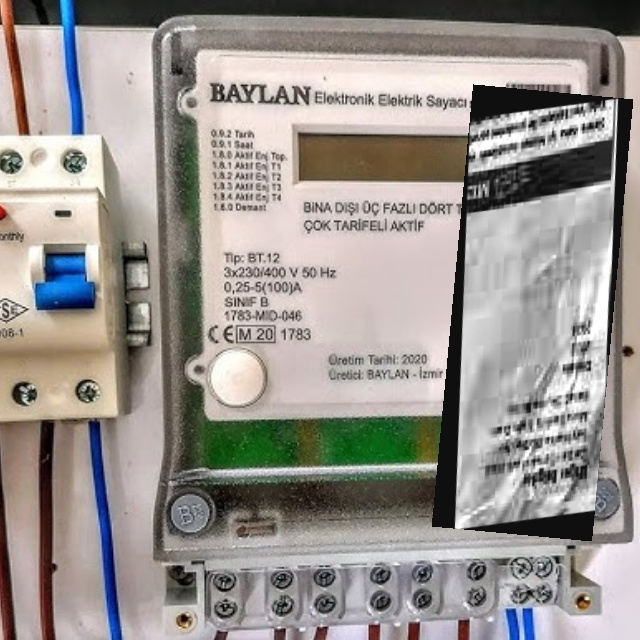electricity-bill: (431, 83, 633, 541)
